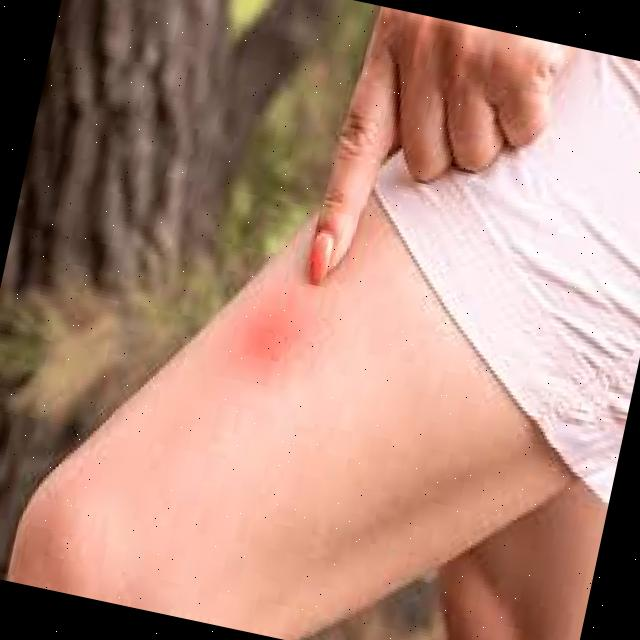kene: (230, 284, 315, 385)
